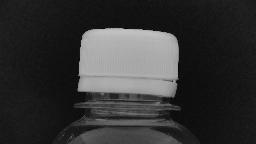Loose Cap: (68, 70, 186, 116)
